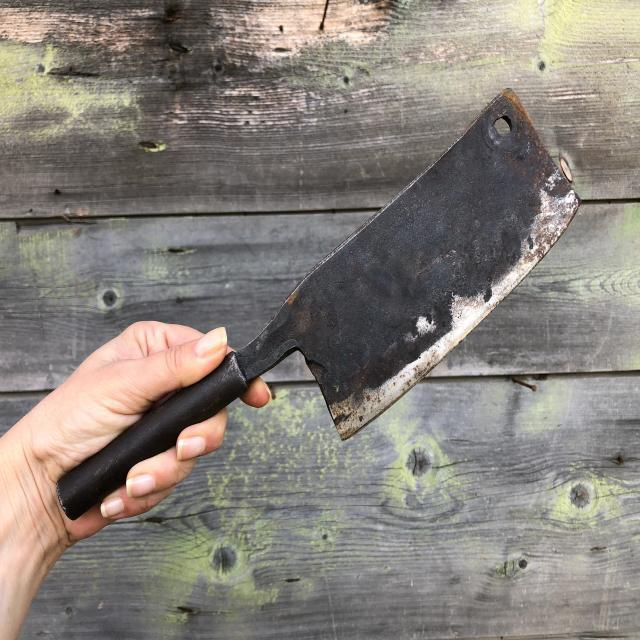cleaver: (0, 89, 581, 538)
